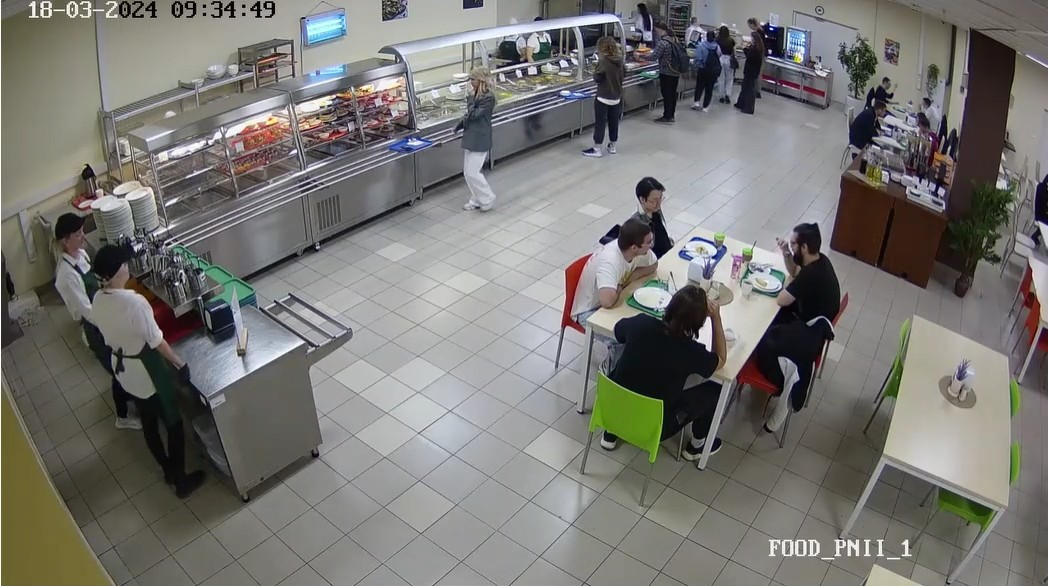Na_Kasse: (734, 17, 765, 118), (684, 32, 720, 107), (717, 25, 737, 112)
Personal: (86, 249, 222, 503), (45, 215, 148, 428), (521, 16, 554, 59), (495, 17, 520, 59), (626, 2, 650, 40), (687, 16, 703, 40)
Vybiraet: (458, 60, 501, 213), (575, 37, 626, 153), (651, 27, 676, 118)
Za_Stolom: (589, 274, 743, 473), (550, 215, 662, 368), (760, 216, 840, 303), (838, 99, 885, 167), (627, 172, 672, 239), (1023, 167, 1048, 254), (911, 117, 945, 160), (869, 79, 901, 109), (915, 80, 939, 113)
